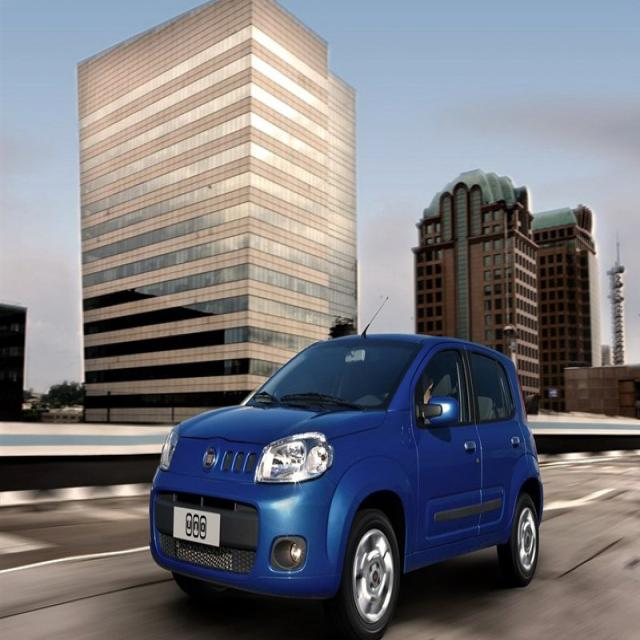door: (471, 350, 524, 549)
front_bumper: (148, 465, 361, 603)
front_glass: (243, 335, 424, 411)
front_left_side_door: (408, 338, 483, 558)
front_left_side_light: (253, 428, 336, 486)
front_left_side_mirror: (416, 394, 460, 425)
front_right_side_light: (159, 425, 180, 472)
wheel: (336, 508, 402, 640), (497, 491, 540, 589)
